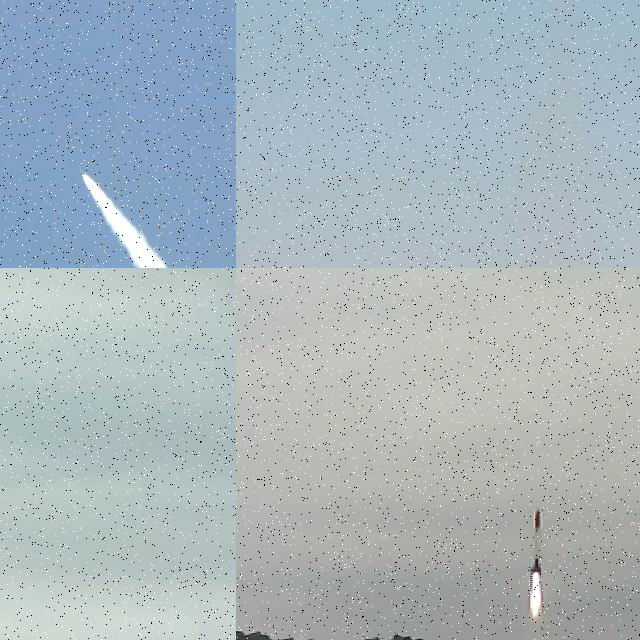Rocket: (530, 508, 542, 574), (80, 169, 84, 176)
